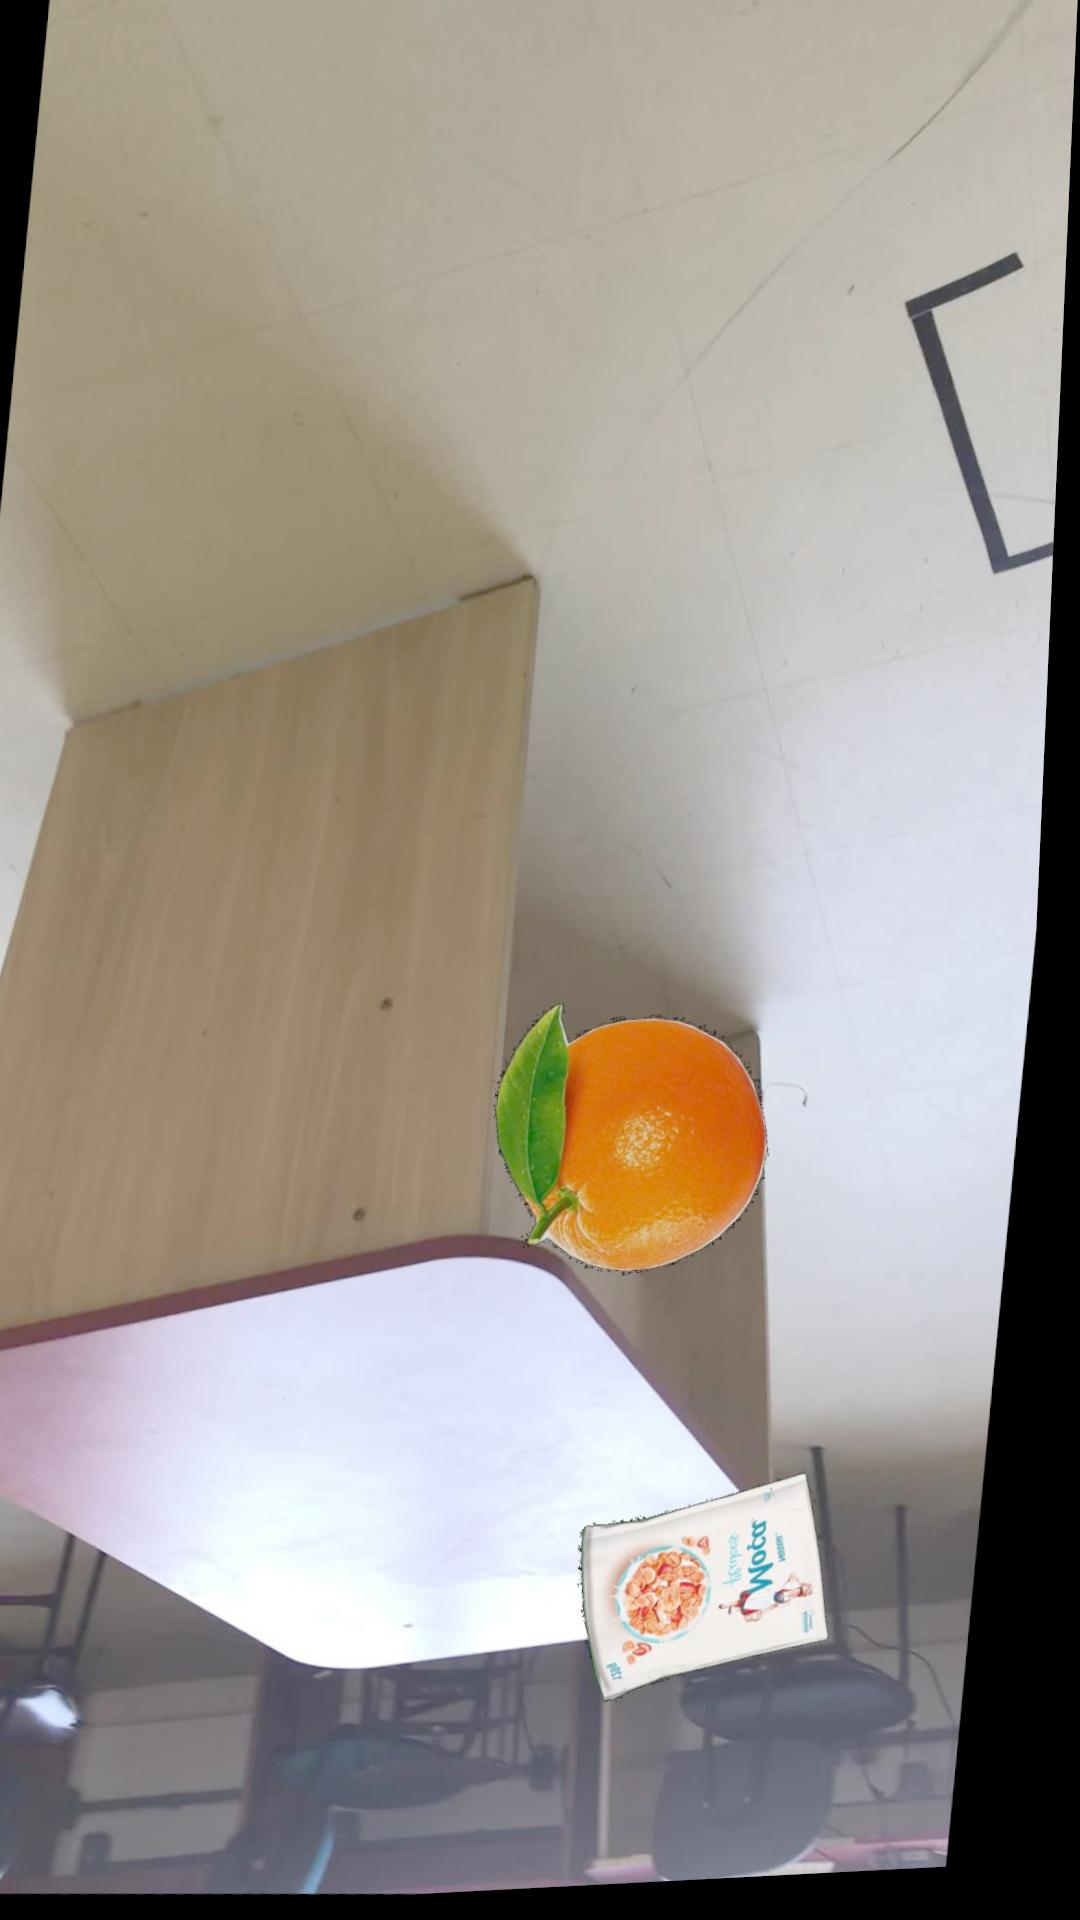corn flakes: (593, 1484, 845, 1710)
orange: (506, 1011, 781, 1284)
